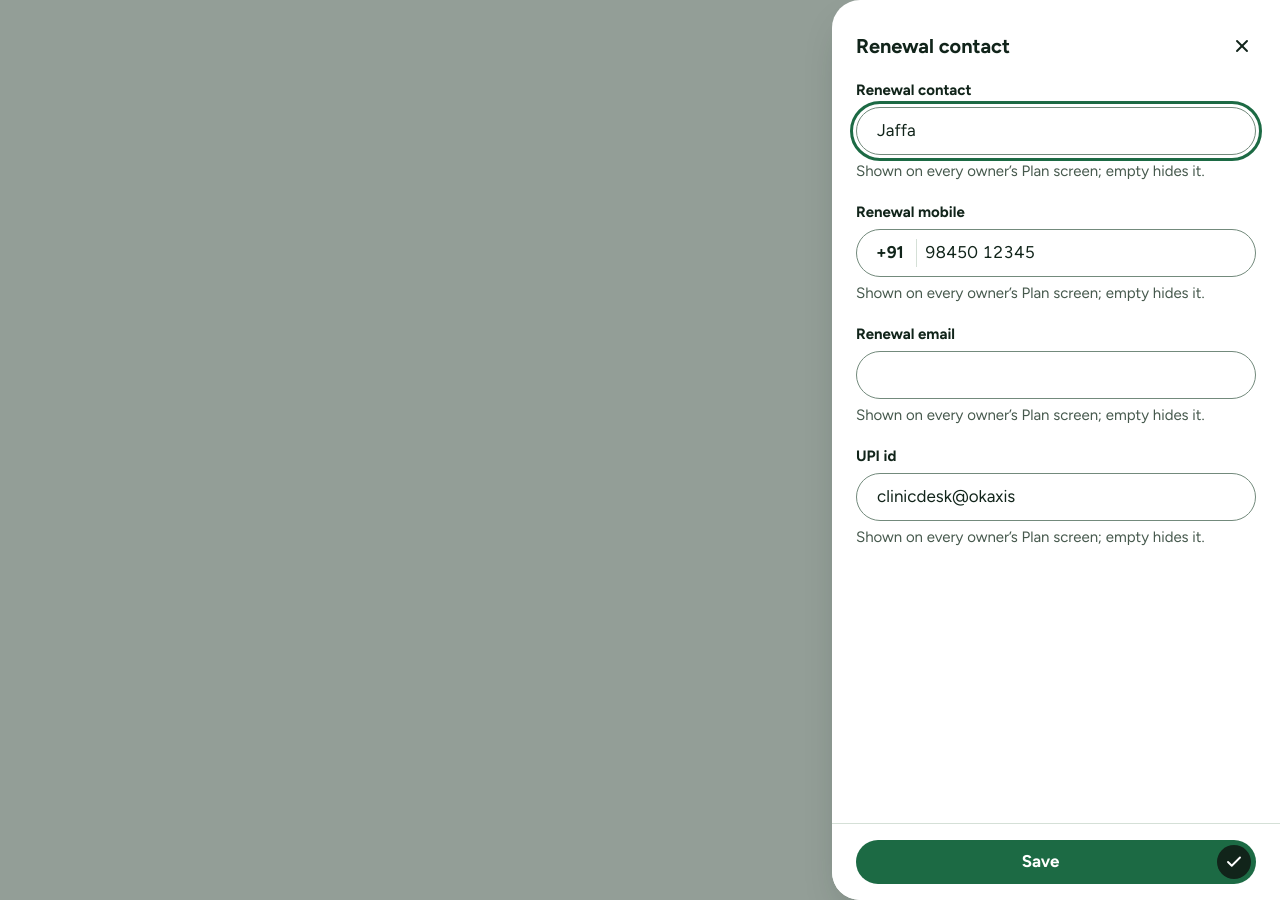
Test: SettingsSheet (plan §20.4; D378 – D381) › gives each part of the renewal contact its own field, emptied to hide it
The width and height of the screenshot is (1280, 900).
Check: the field labelled "Renewal mobile" holds "98450 12345", box x1=856 y1=229 x2=1256 y2=277
Clear the field labelled "UPI id": (1056, 497) x1=856 y1=473 x2=1256 y2=521
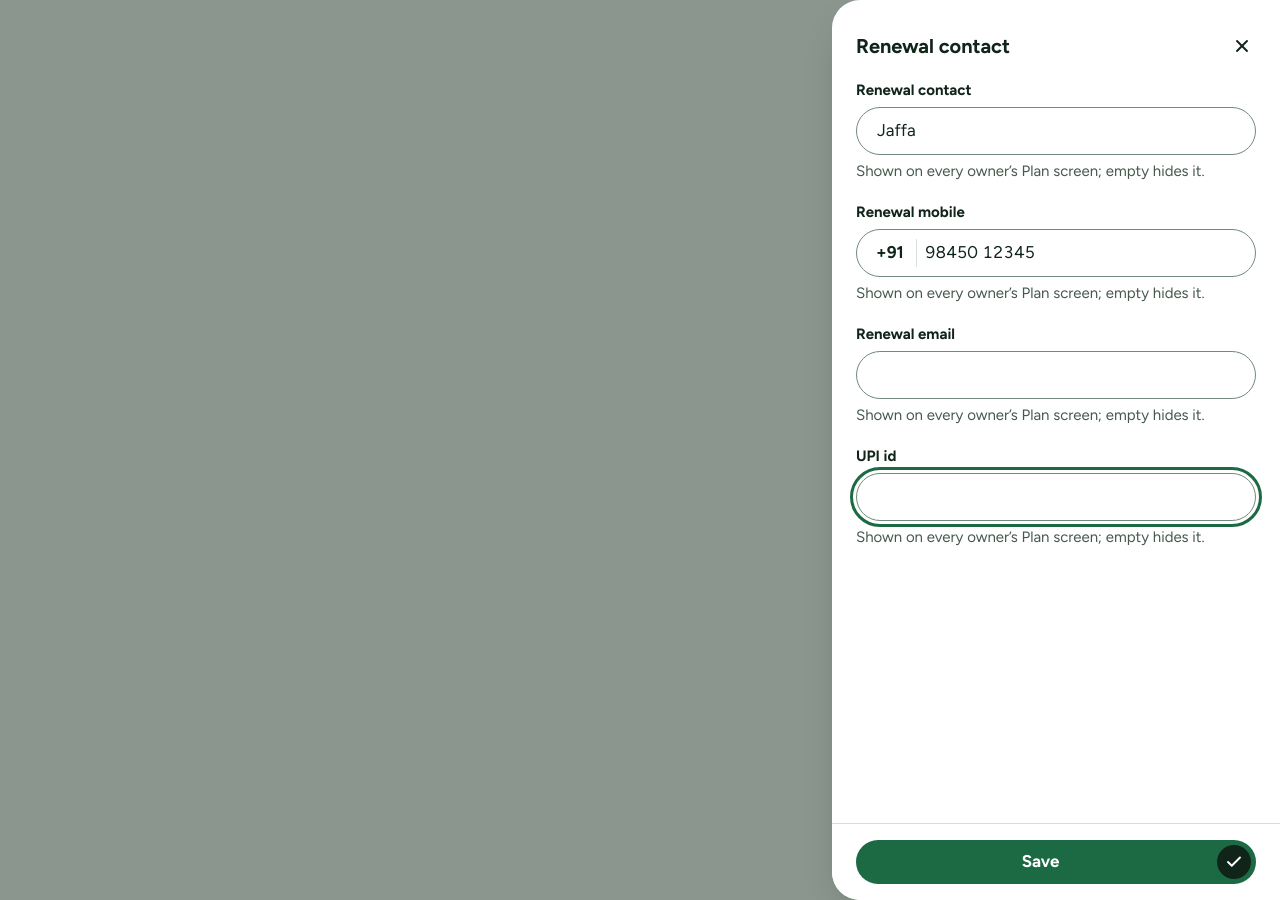
Click the button "Save": (1056, 862) x1=856 y1=840 x2=1256 y2=884
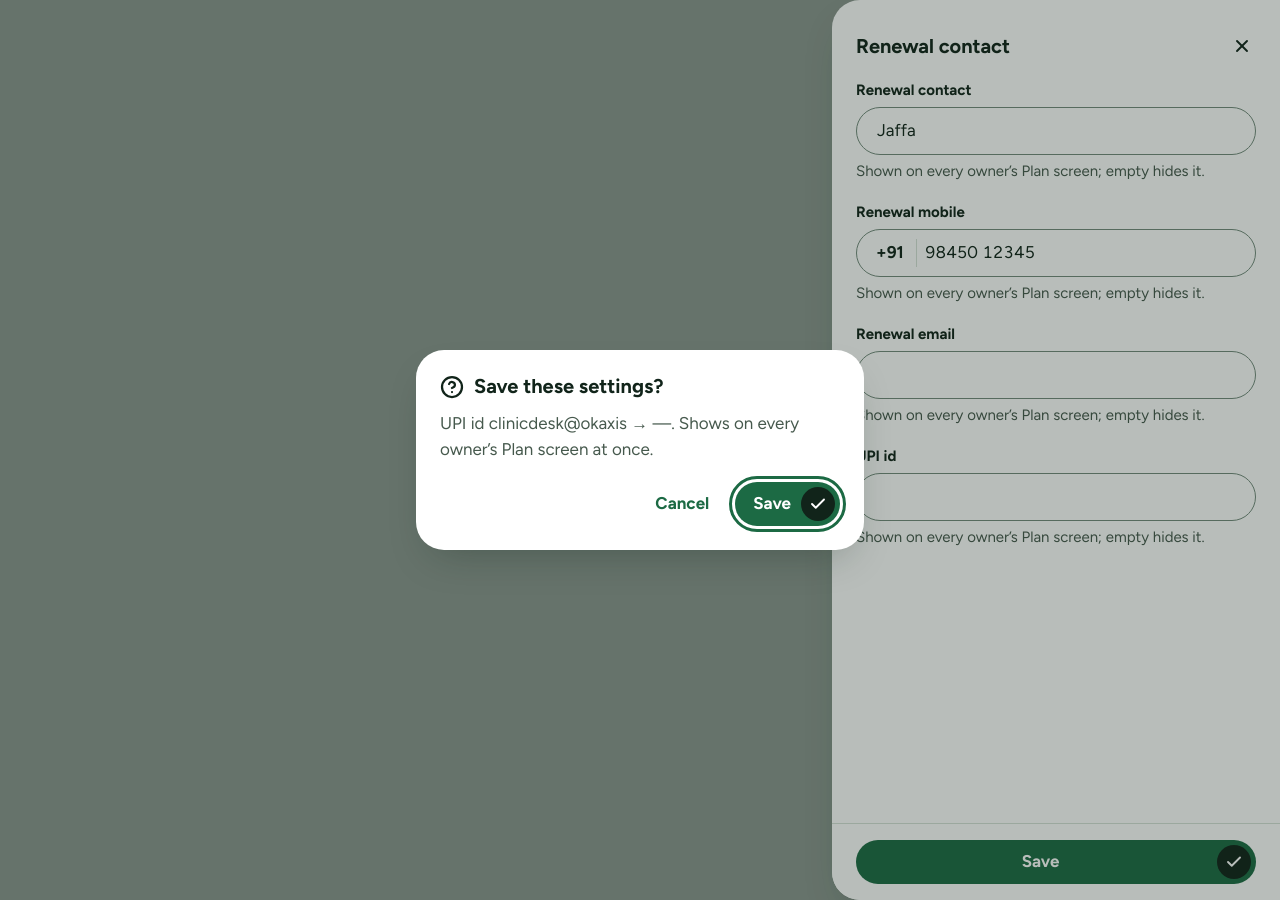
Check: the text "UPI id clinicdesk@okaxis → —." is shown, box x1=440 y1=413 x2=799 y2=458
